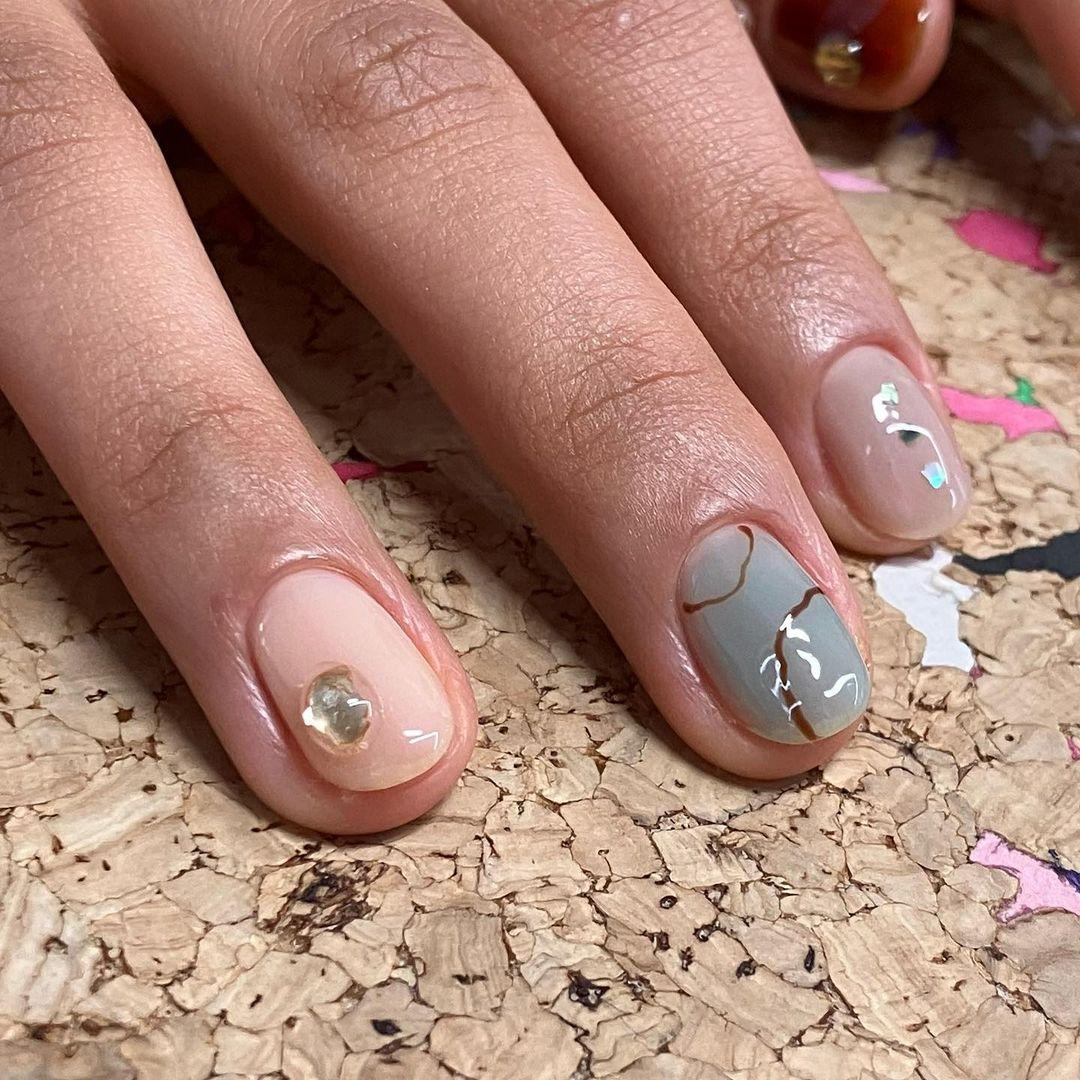nail: (244, 560, 457, 796), (673, 517, 871, 748), (808, 340, 972, 555), (740, 0, 954, 112)
